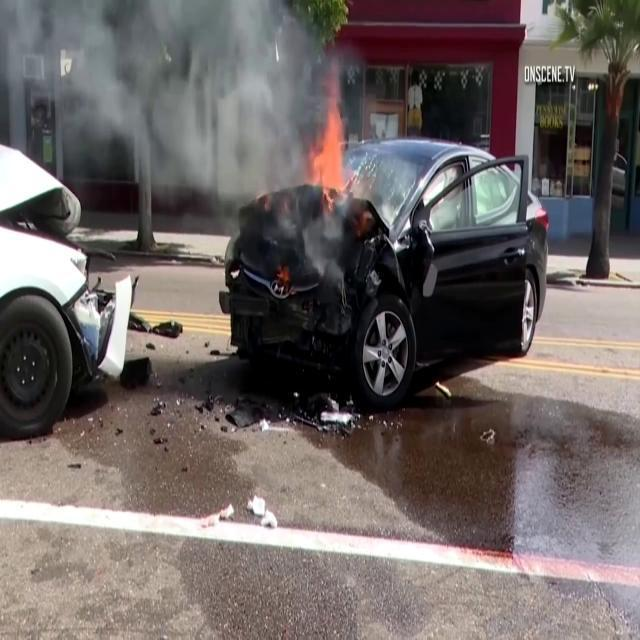Fire: (310, 102, 352, 210)
Smoke: (0, 0, 354, 263)
